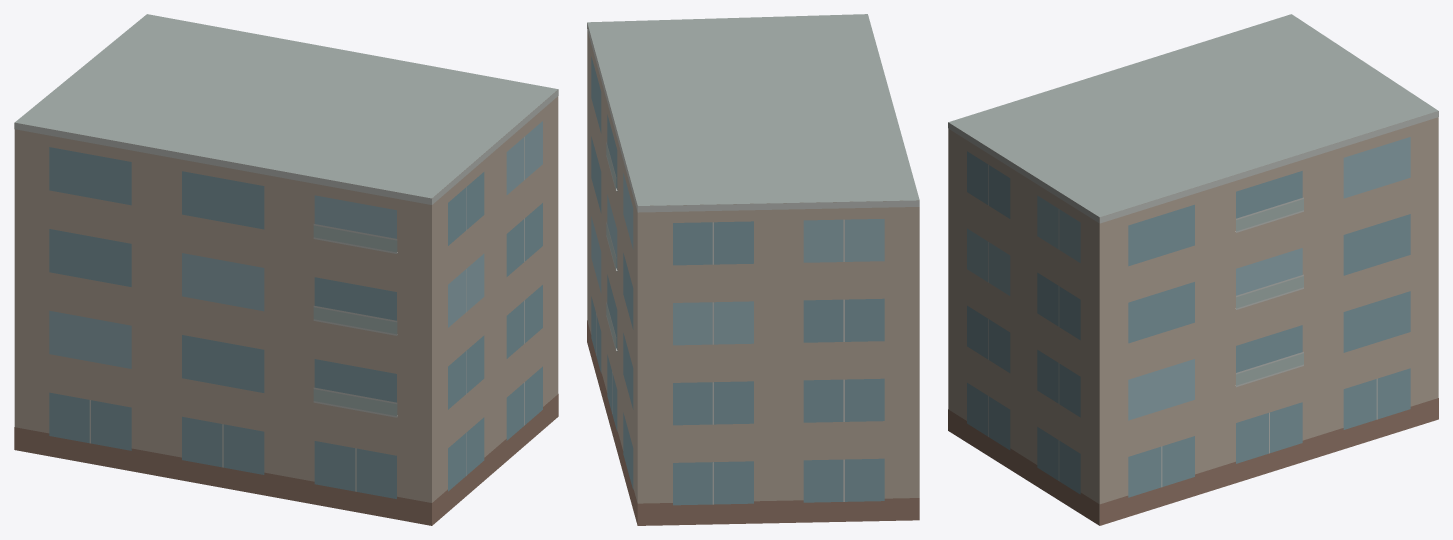
Rendered from survey-upis-33042623.glb.
3 views of the same model, side by side, from view 1: azimuth 30°, elevation 25°; view 2: azimuth 150°, elevation 25°; view 3: azimuth 270°, elevation 25° (orthographic). The views are drawn at different scales.
Parts seen in each view (by area): view 1: survey-upis-33042623.tmp; view 2: survey-upis-33042623.tmp; view 3: survey-upis-33042623.tmp.
Boxes of the visible parts, box(x1,y1,x2,y2) form: survey-upis-33042623.tmp: box(14, 14, 558, 525); survey-upis-33042623.tmp: box(587, 14, 919, 525); survey-upis-33042623.tmp: box(948, 14, 1438, 525).
Size of the model in its own units: 17.04 by 12.05 by 17.37.
